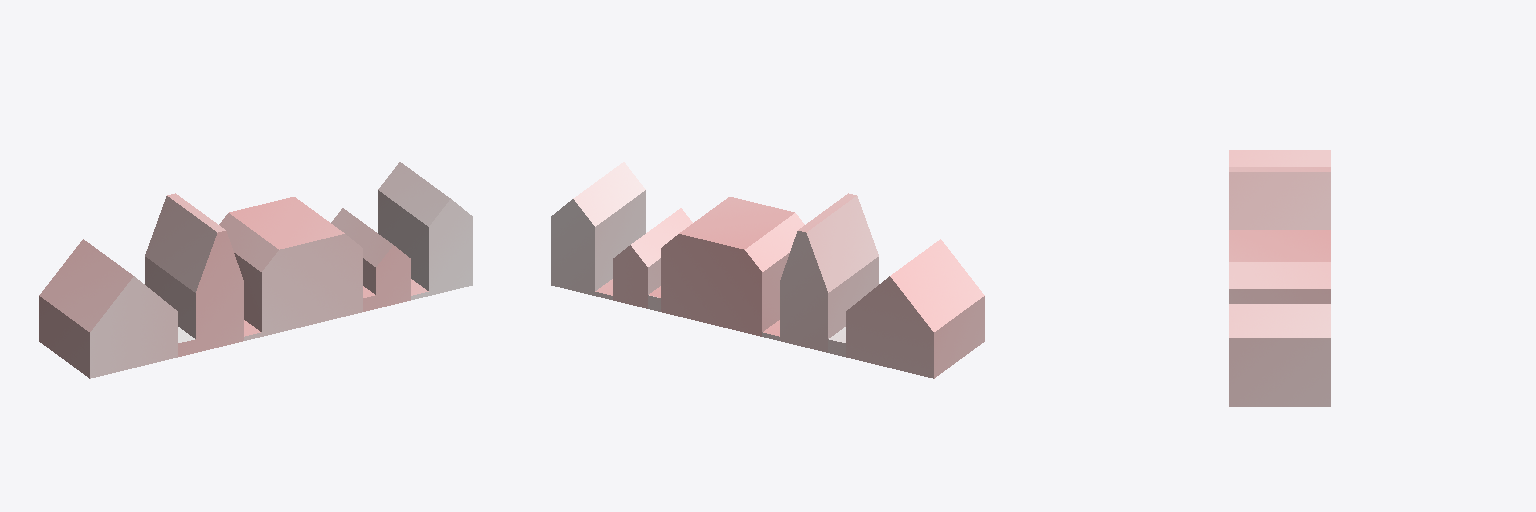
3 views of the same model, side by side, from view 1: azimuth 30°, elevation 25°; view 2: azimuth 150°, elevation 25°; view 3: azimuth 270°, elevation 25° (orthographic).
Parts seen in each view (by area): view 1: Cube; view 2: Cube; view 3: Cube.
Boxes of the visible parts, x1=… form: Cube: x1=39, y1=162, x2=472, y2=378; Cube: x1=551, y1=162, x2=984, y2=378; Cube: x1=1229, y1=150, x2=1330, y2=406.
Size of the model in its own units: 8.7 by 2.5 by 2.
1 materials, 1 textured.